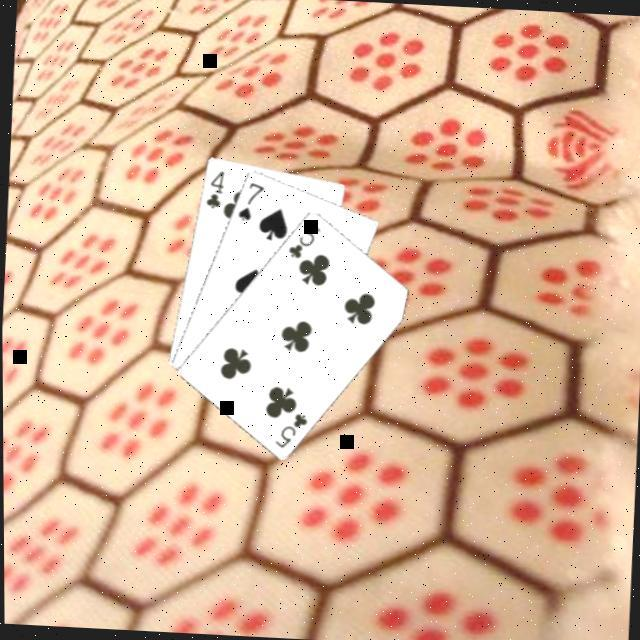4C: (200, 168, 224, 214)
5C: (268, 410, 308, 454), (282, 220, 321, 264)
7S: (232, 178, 264, 226)
